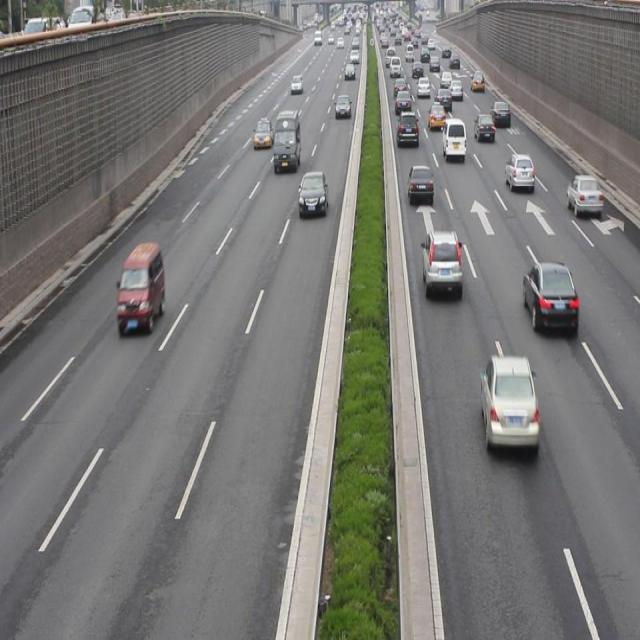car: (478, 353, 539, 458), (521, 266, 576, 330), (420, 232, 461, 298), (566, 175, 600, 218), (297, 170, 326, 216), (502, 155, 533, 189), (396, 109, 418, 147), (408, 165, 431, 201), (252, 119, 272, 148), (474, 114, 493, 140)
truck: (118, 243, 166, 335), (273, 112, 299, 170), (442, 119, 465, 158)
